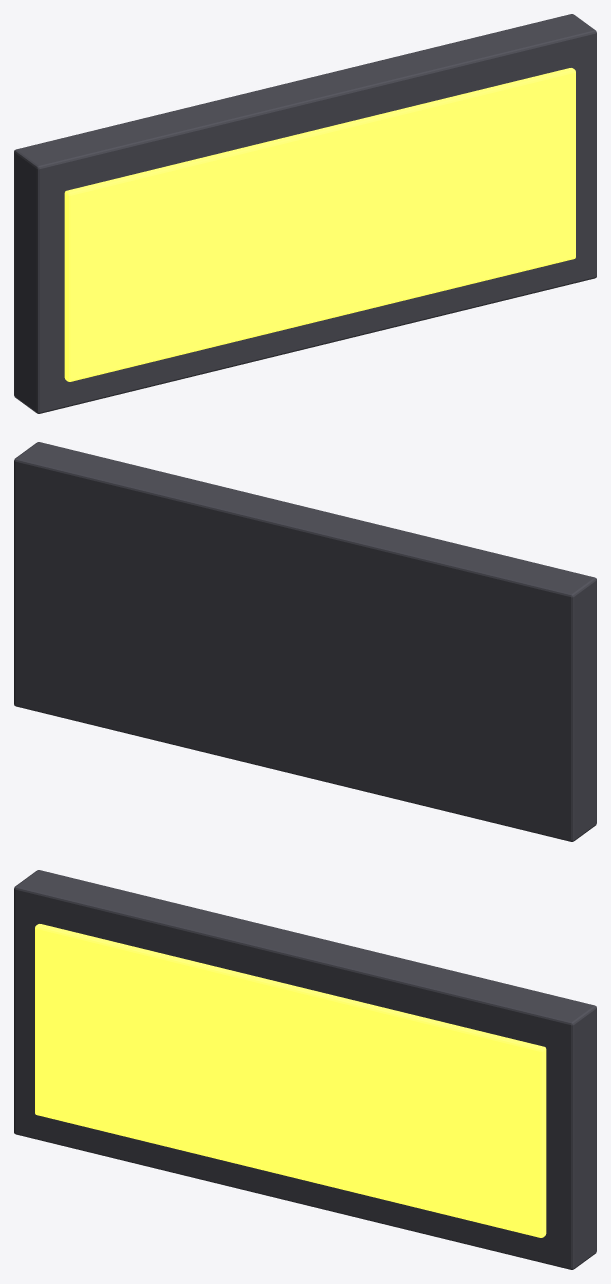
Rendered from departure_board.glb.
3 renders of one model, top to bottom at view 1: azimuth 30°, elevation 25°; view 2: azimuth 150°, elevation 25°; view 3: azimuth 330°, elevation 25°, orthographic.
Visible parts, largest first — view 1: board_screen, board_case; view 2: board_case; view 3: board_screen, board_case.
Boxes of the visible parts, x1,y1,x2,y2 form: board_screen: [64, 68, 575, 381]; board_case: [14, 14, 596, 413]; board_case: [14, 442, 596, 841]; board_screen: [35, 924, 546, 1237]; board_case: [14, 870, 596, 1269].
Bounding box in the file's own units: 1.3 × 0.55 × 0.12.
